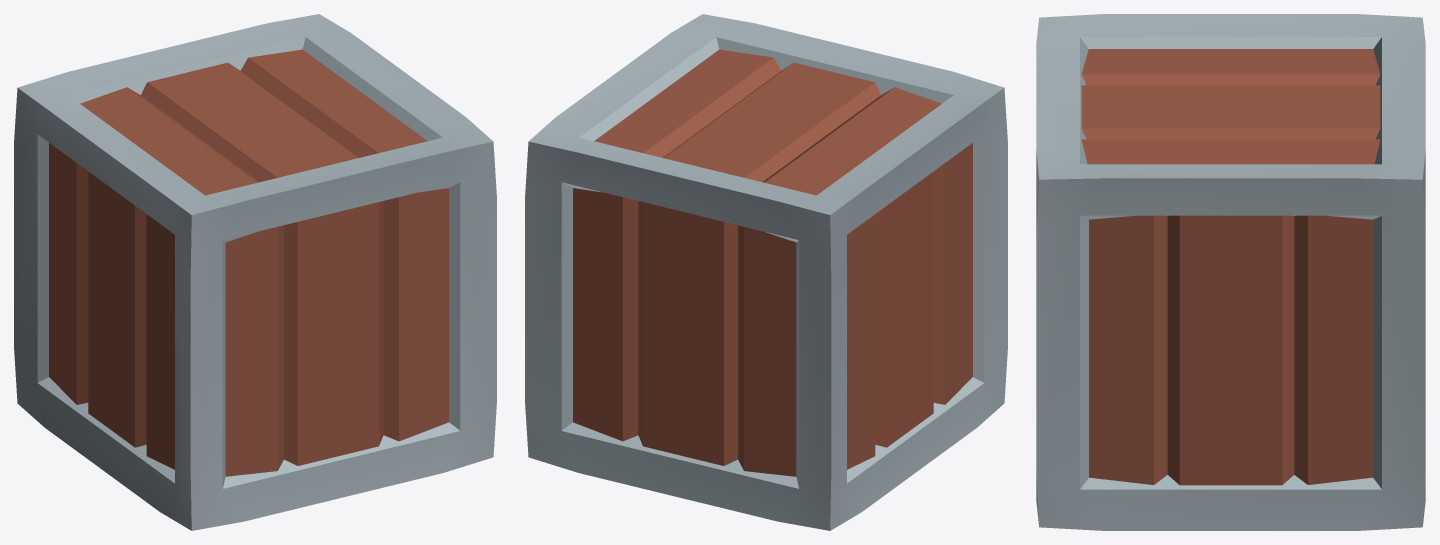
The model's file is crate.gltf.glb.
3 renders of one model, left to right at view 1: azimuth 30°, elevation 25°; view 2: azimuth 150°, elevation 25°; view 3: azimuth 270°, elevation 25°, orthographic. The views are drawn at different scales.
Visible parts, largest first — view 1: crate; view 2: crate; view 3: crate.
Boxes of the visible parts, x1,y1,x2,y2 form: crate: (14, 14, 496, 530); crate: (525, 14, 1007, 530); crate: (1036, 14, 1425, 530).
Size of the model in its own units: 0.9137 by 0.9137 by 0.9137.
